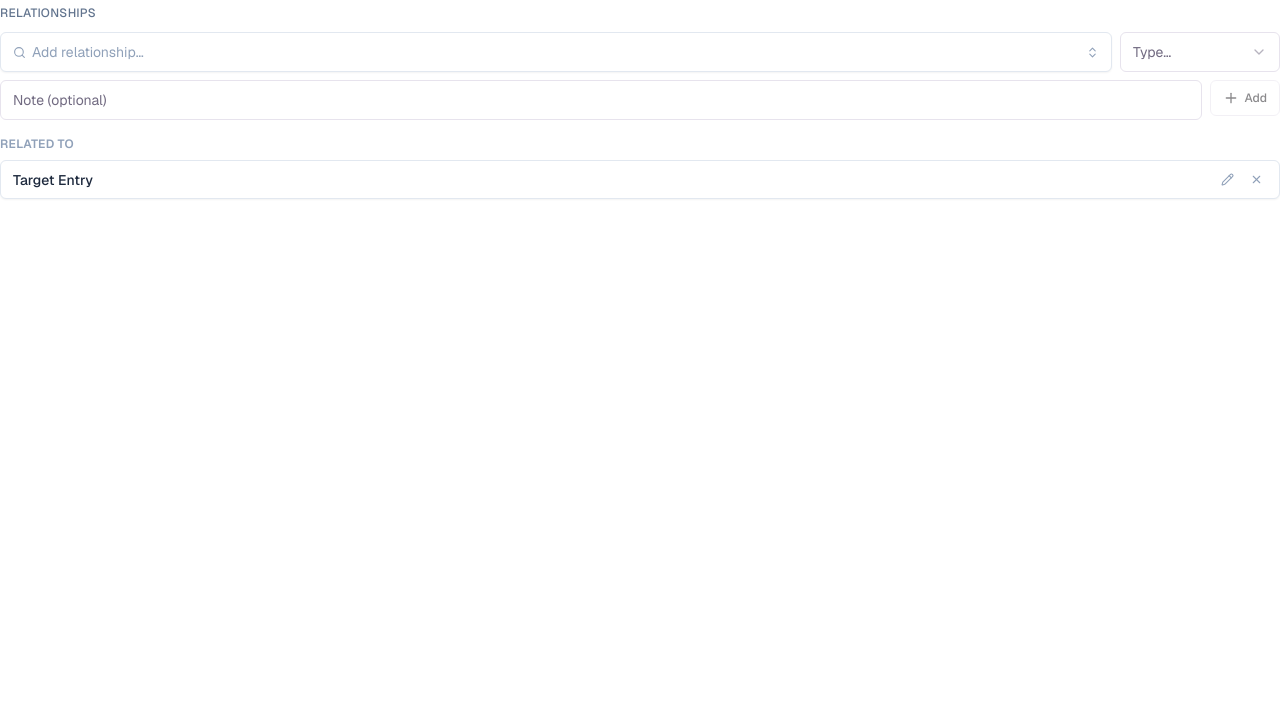
Test case: RelationshipsPanel — cancelling confirmation dialog › closes the dialog when Cancel is clicked
// Open the dialog
Click the button with test id "relationship-card-remove-button".
click(1256, 180)  # box [1246,169,1267,190]
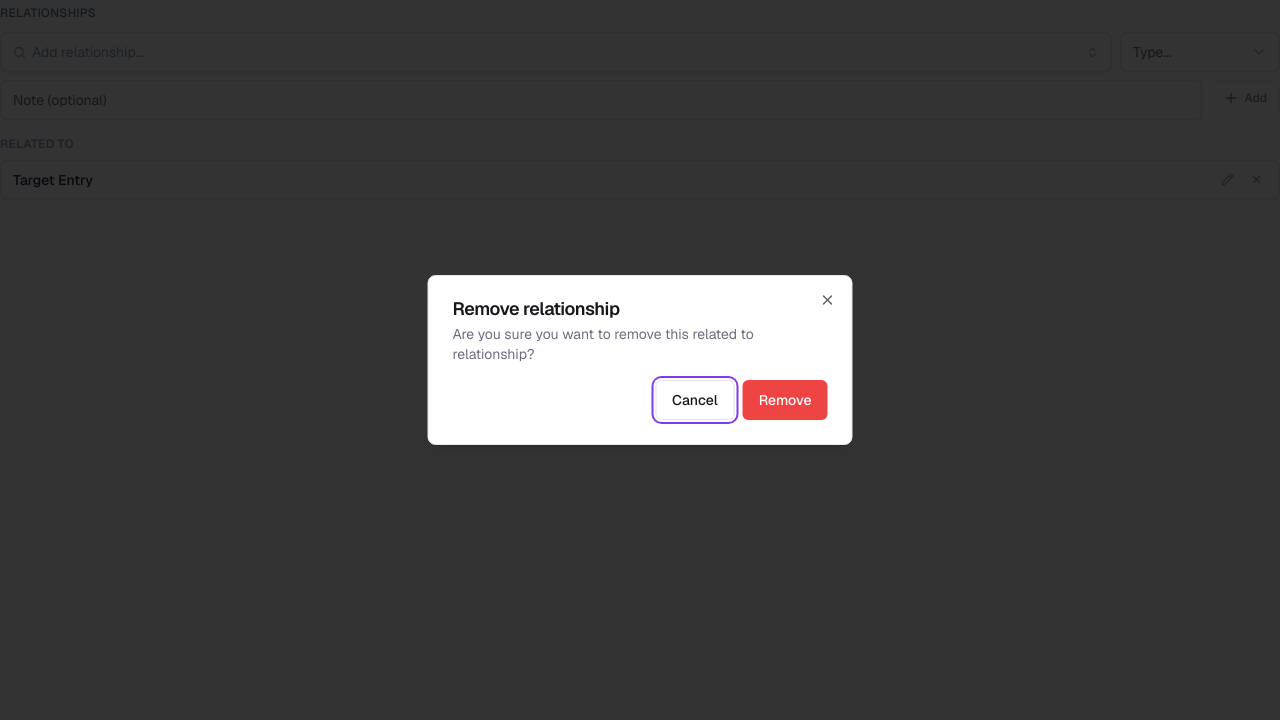
Expected: the heading "Remove relationship" is shown, [452,297,620,320]
Click the button "Cancel".
click(695, 400)  # box [655,380,735,420]
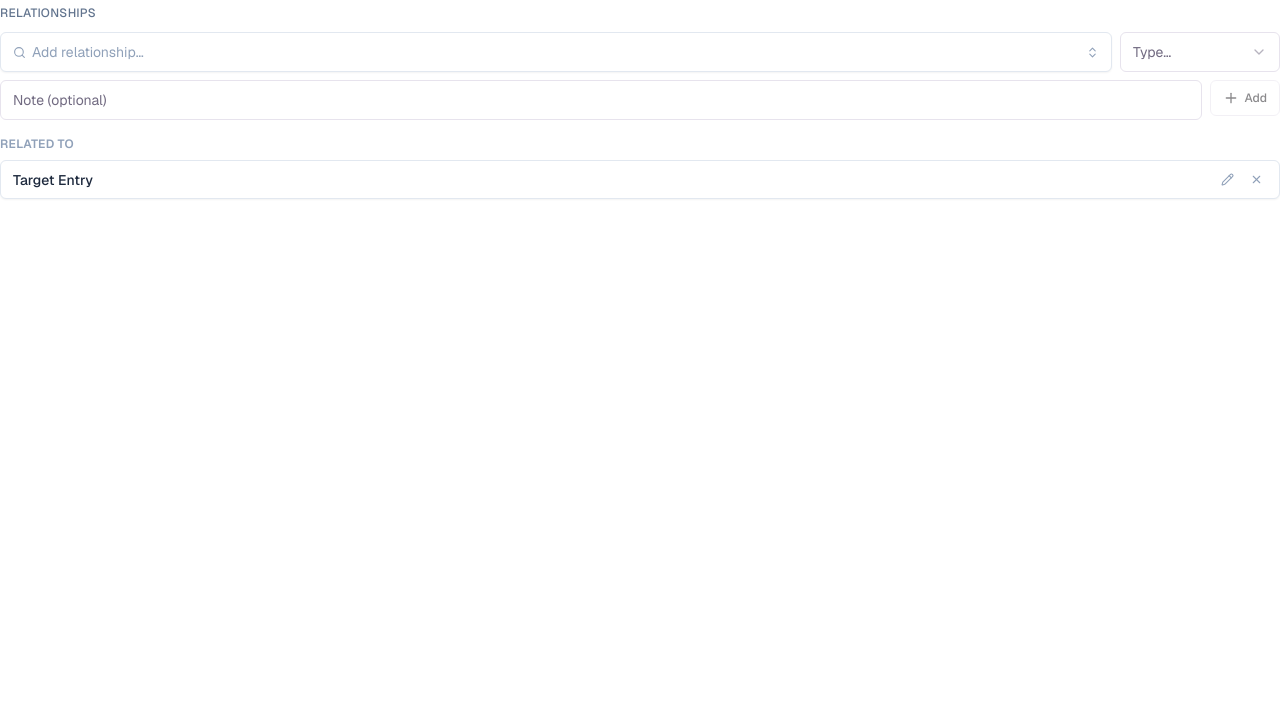
Expected: the heading "Remove relationship" is gone
